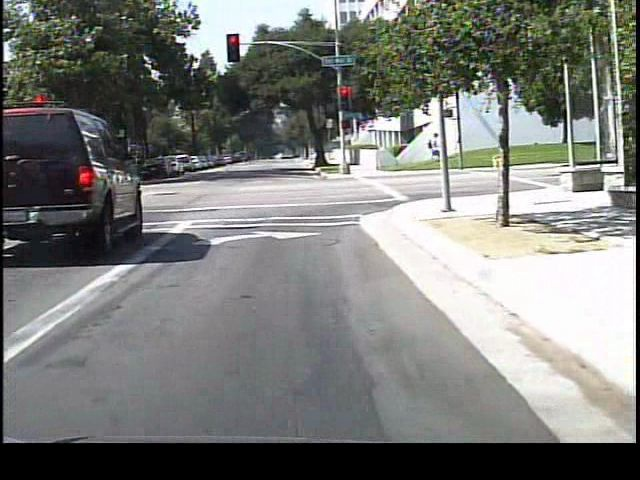person: (424, 127, 440, 159)
